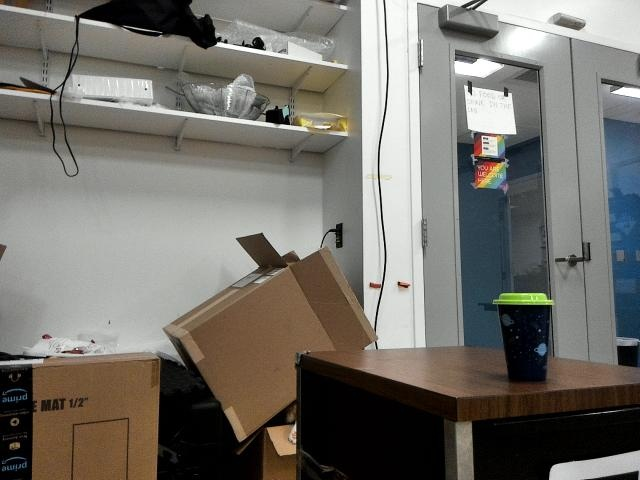water_cup: (495, 288, 553, 383)
